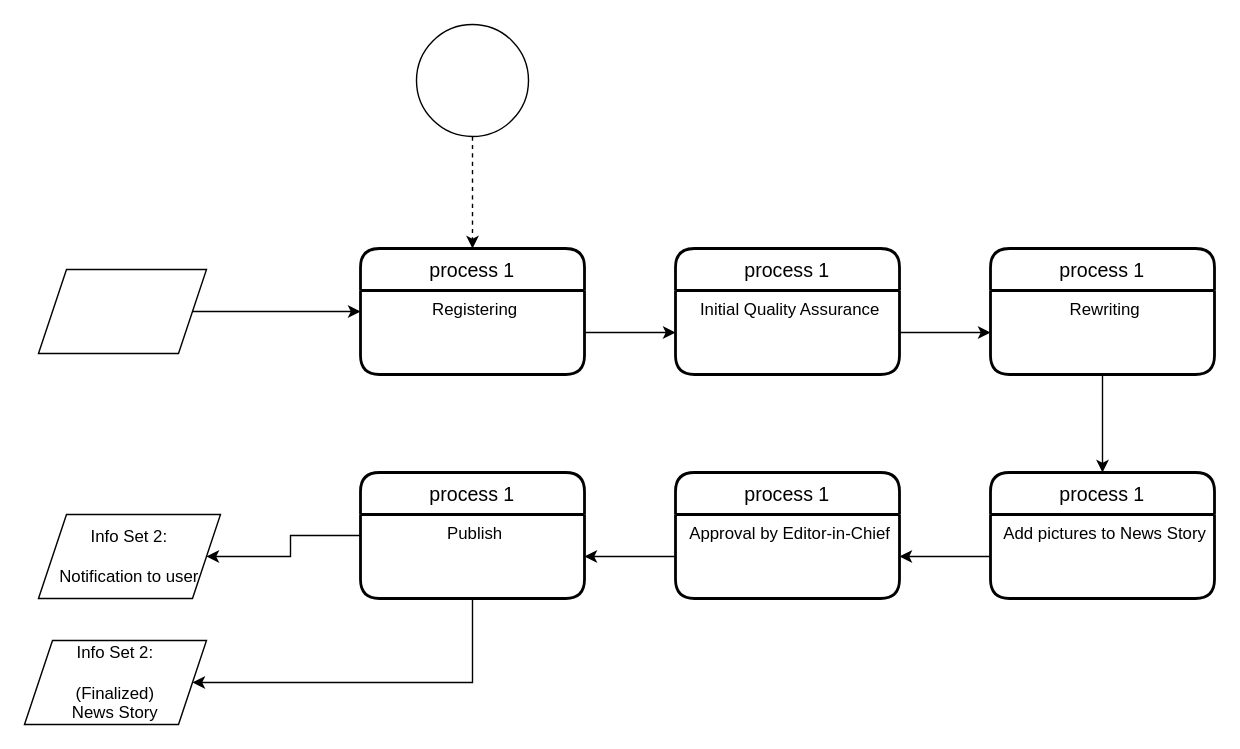
Image size: 1240x749. Some labels were removed from this diagram. The shapes that lost their labels are listed below. From the top down, each one's box as (x1, y1, x2, y2) in pixels, then its label:
(415, 23, 528, 136): TC 1 TrondheimStory System
(37, 268, 206, 354): Info Set 1: News Story
